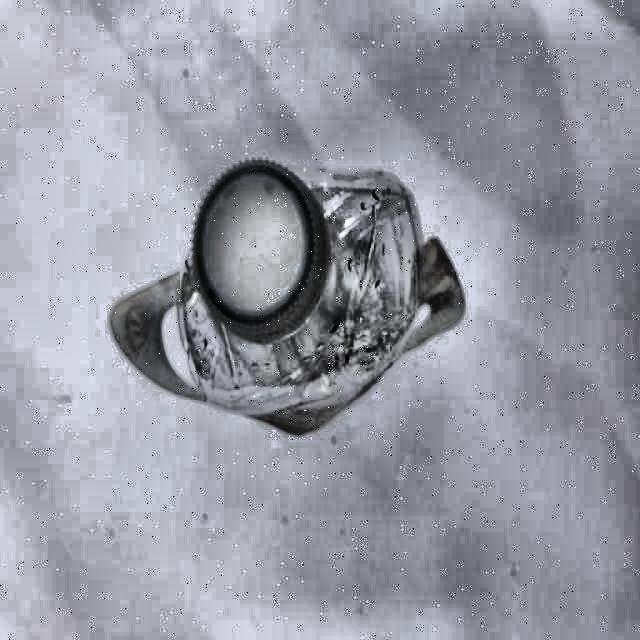plastic: (152, 160, 457, 434)
